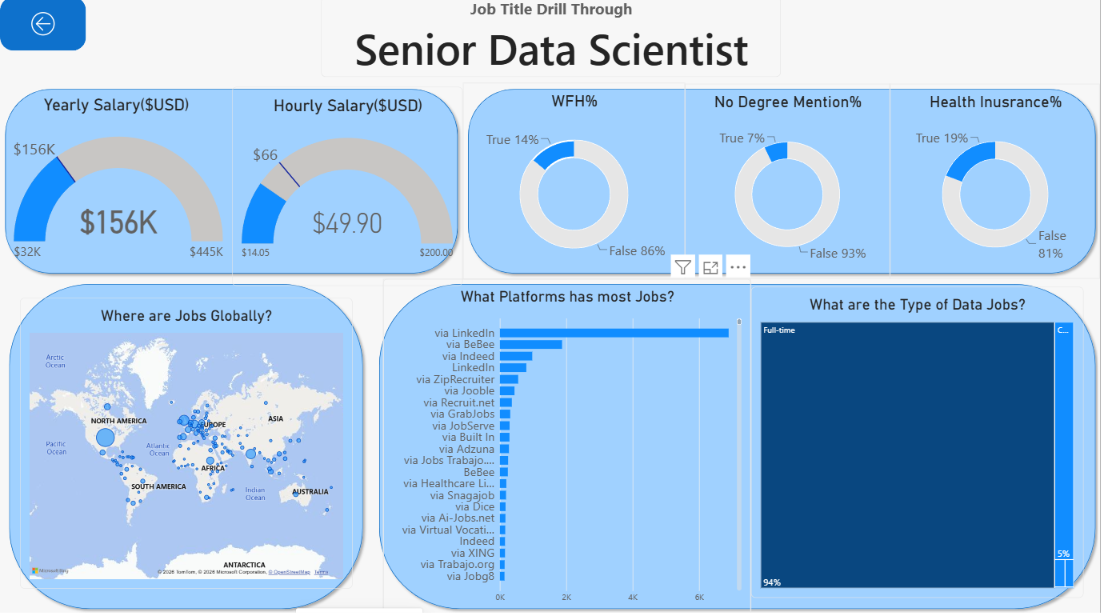

The dashboard page shown, as its layout file describes it:
{"tool":"powerbi","page":{"name":"Job Title Drillthrough","canvas":[1920,1080],"ordinal":1},"visuals":[{"type":"group","id":"g1","title":"Background","box":[0,152.5,1920,925],"z":0},{"type":"shape","box":[807.5,152.5,1112.5,340],"z":0,"group":"g1"},{"type":"textbox","box":[10,0,280,280],"z":1000},{"type":"shape","box":[652.5,492.5,1267.5,585],"z":1000,"group":"g1"},{"type":"cardVisual","fields":{"Data":["Min(job_postings_flat.job_title_short)1"]},"box":[560,0,802,140],"z":2000},{"type":"shape","box":[7.5,492.5,635,585],"z":2000,"group":"g1"},{"type":"actionButton","box":[0,0,150,94],"z":3000},{"type":"shape","box":[0,152.5,807.5,340],"z":3000,"group":"g1"},{"type":"gauge","title":"Yearly Salary($USD)","fields":{"MaxValue":["Max(job_postings_flat.salary_year_avg)1"],"MinValue":["Min(job_postings_flat.salary_year_avg)"],"TargetValue":["Avg(job_postings_flat.salary_year_avg)2"],"Y":["Median(job_postings_flat.salary_year_avg)"]},"box":[0,157.5,405,347.5],"z":4000},{"type":"donutChart","title":"No Degree Mention%","fields":{"Category":["job_postings_flat.job_no_degree_mention"],"Y":["CountNonNull(job_postings_flat.job_no_degree_mention)"]},"box":[1195,152.5,357.5,340],"z":5000},{"type":"donutChart","title":"Health Inusrance%","fields":{"Category":["job_postings_flat.job_health_insurance"],"Y":["CountNonNull(job_postings_flat.job_health_insurance)"]},"box":[1552.5,152.5,367.5,340],"z":6000},{"type":"donutChart","title":"WFH%","fields":{"Category":["job_postings_flat.job_work_from_home"],"Y":["CountNonNull(job_postings_flat.job_work_from_home)"]},"box":[807.5,150,387.5,342.5],"z":7000},{"type":"gauge","title":"Hourly Salary($USD)","fields":{"MaxValue":["Max(job_postings_flat.salary_hour_avg)"],"MinValue":["Min(job_postings_flat.salary_hour_avg)"],"TargetValue":["Avg(job_postings_flat.salary_hour_avg)"],"Y":["Median(job_postings_flat.salary_hour_avg)"]},"box":[405,157.5,402.5,347.5],"z":8000},{"type":"map","title":"Where are Jobs Globally?","fields":{"Category":["job_postings_flat.job_country"],"Size":["CountNonNull(job_postings_flat.job_title_short)"]},"box":[35,525,580,507.5],"z":9000},{"type":"treemap","title":"What are the Type of Data Jobs?","fields":{"Group":["job_postings_flat.job_schedule_type"],"Values":["CountNonNull(job_postings_flat.job_schedule_type)"]},"box":[1310,505,580,542.5],"z":10000},{"type":"barChart","title":"What Platforms has most Jobs?","fields":{"Category":["job_postings_flat.job_via"],"Y":["CountNonNull(job_postings_flat.job_via)"]},"box":[667.5,492.5,642.5,587.5],"z":11000}]}

Visuals, with their boxes in screenshot pixels (x1, y1, x2, y2), scaled from the page's 1920x1080 canvas onto the 1102x613 screenshot:
"Background" group: (0,87,1101,612)
shape: (463,87,1101,280)
textbox: (6,0,166,159)
shape: (375,280,1101,612)
cardVisual - Min(job_postings_flat.job_title_short)1: (321,0,782,79)
shape: (4,280,369,612)
actionButton: (0,0,86,53)
shape: (0,87,463,280)
"Yearly Salary($USD)" gauge: (0,89,232,287)
"No Degree Mention%" donutChart: (686,87,891,280)
"Health Inusrance%" donutChart: (891,87,1101,280)
"WFH%" donutChart: (463,85,686,280)
"Hourly Salary($USD)" gauge: (232,89,463,287)
"Where are Jobs Globally?" map: (20,298,353,586)
"What are the Type of Data Jobs?" treemap: (752,287,1085,595)
"What Platforms has most Jobs?" barChart: (383,280,752,612)
